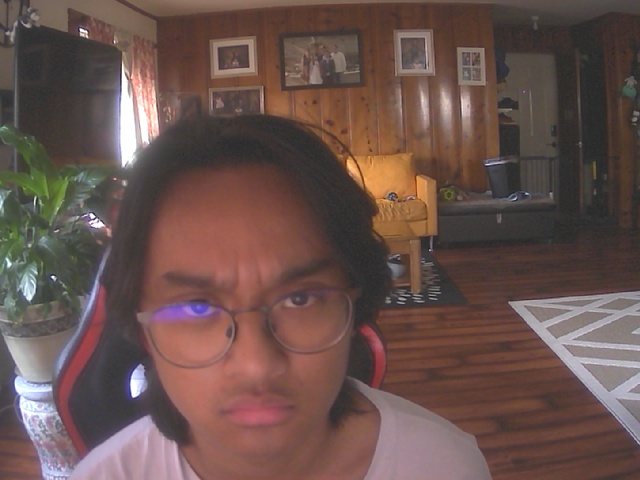anger: (127, 141, 374, 462)
